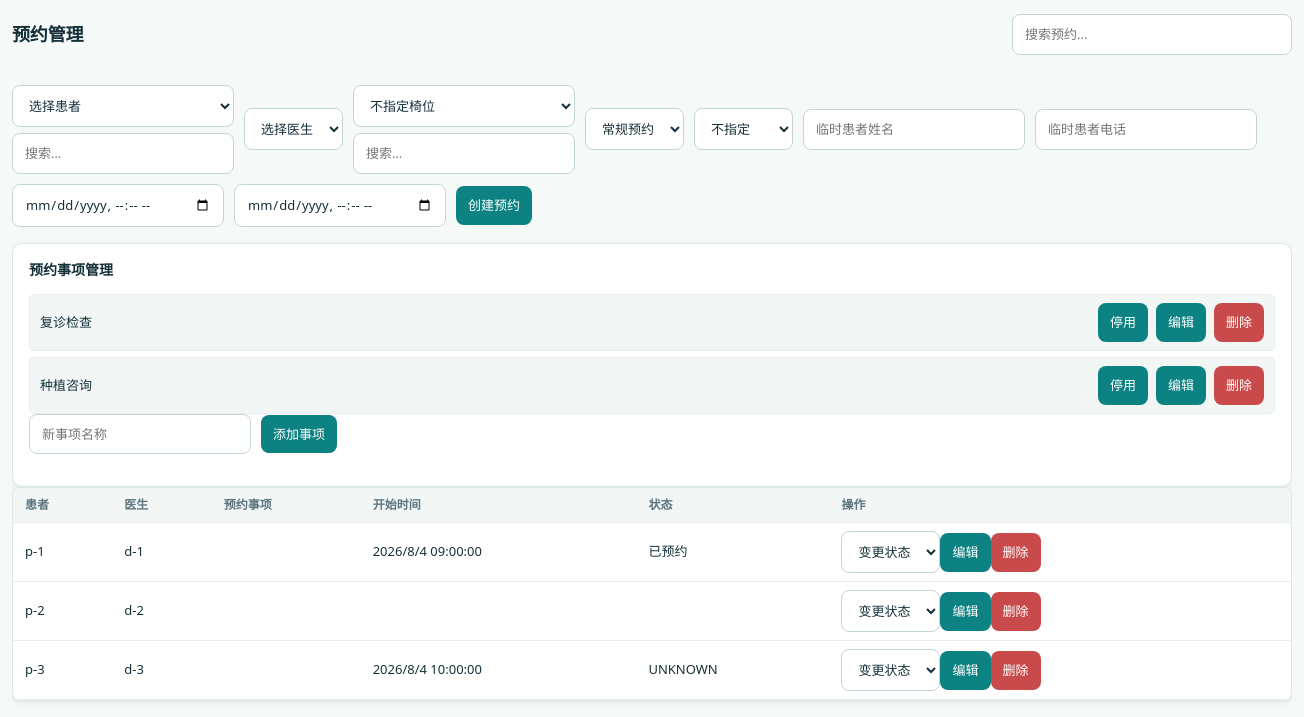
it: AppointmentsPage › renders appointments and creates one with selectors
Expected: the heading "预约管理" is shown, top-left (12, 21), bottom-right (83, 48)
Select "患者甲" in the dropdown named "患者" at (123, 106), box top-left (12, 85), bottom-right (234, 127)
Select "张医生" in the dropdown named "医生" at (294, 129), box top-left (244, 108), bottom-right (343, 150)
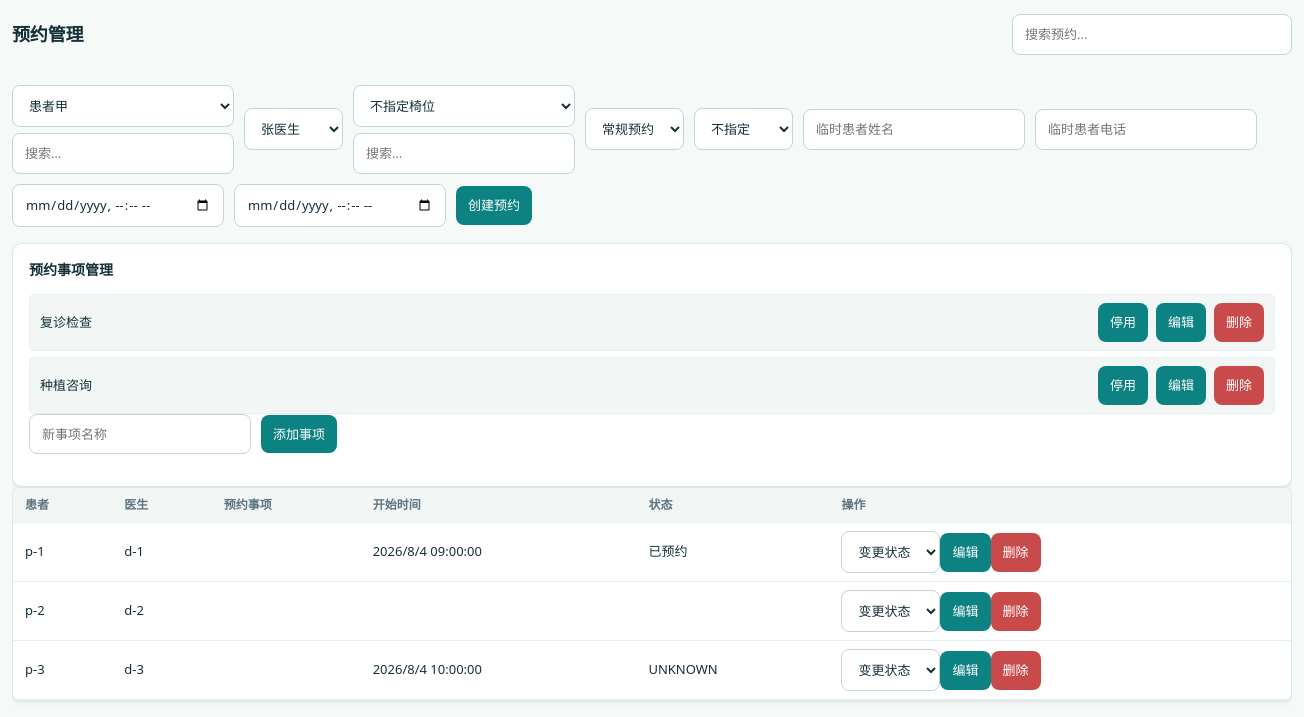
Select "椅位 1" in the dropdown named "椅位" at (464, 106), box top-left (353, 85), bottom-right (575, 127)
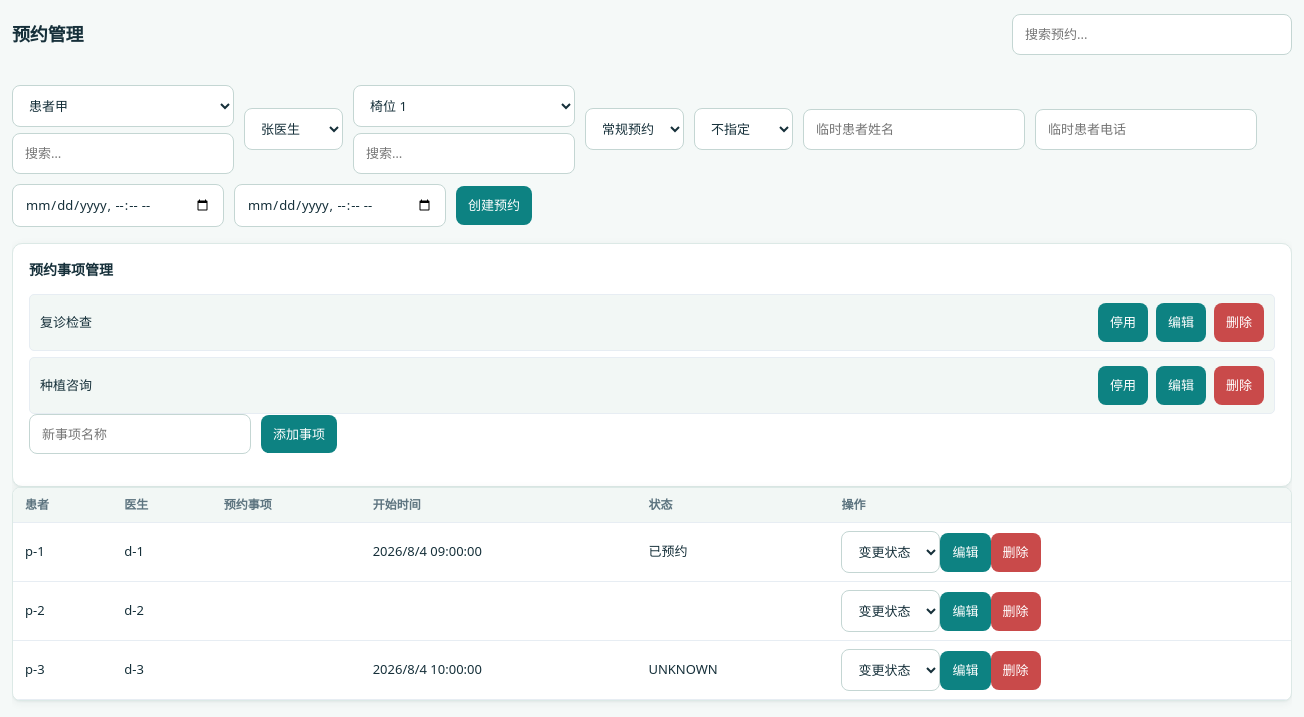
Select "急诊" in the dropdown named "预约类型" at (634, 129), box top-left (585, 108), bottom-right (684, 150)
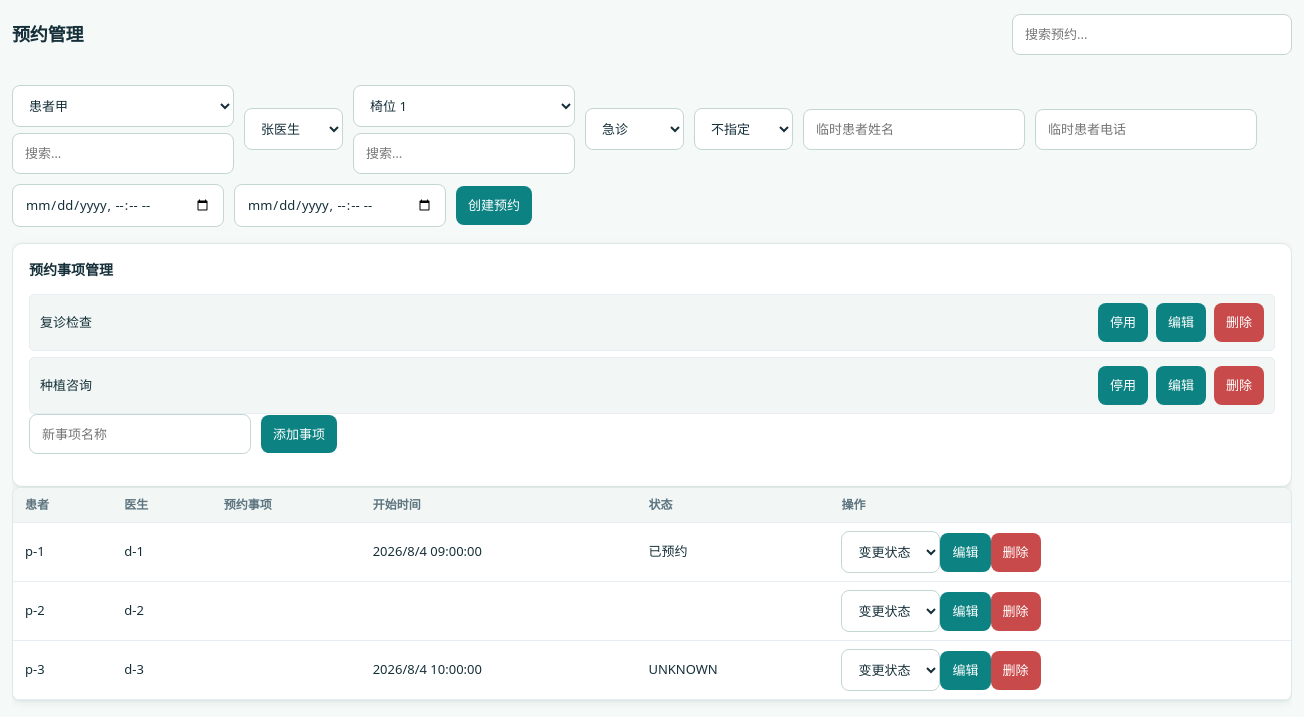
Type "2026-08-05T09:00" into the field named "开始时间" at (118, 205), box top-left (12, 184), bottom-right (224, 226)
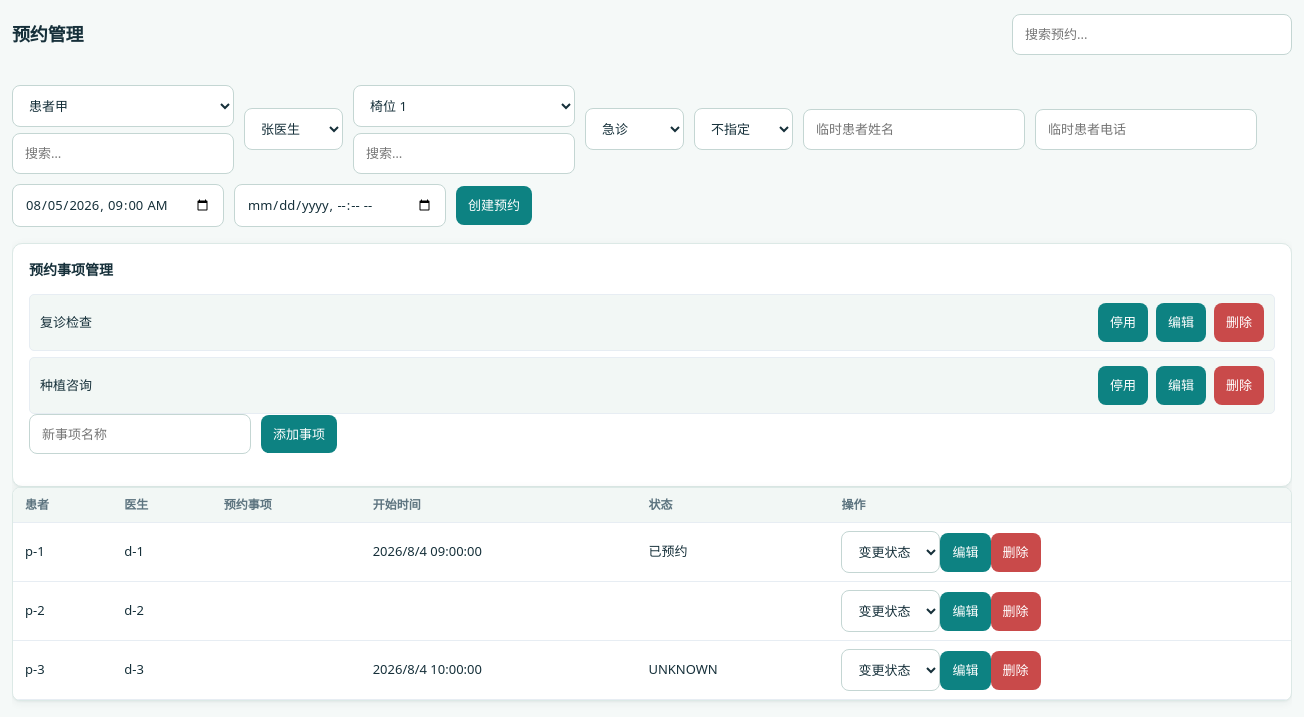
Type "2026-08-05T10:00" into the field named "结束时间" at (340, 205), box top-left (234, 184), bottom-right (446, 226)
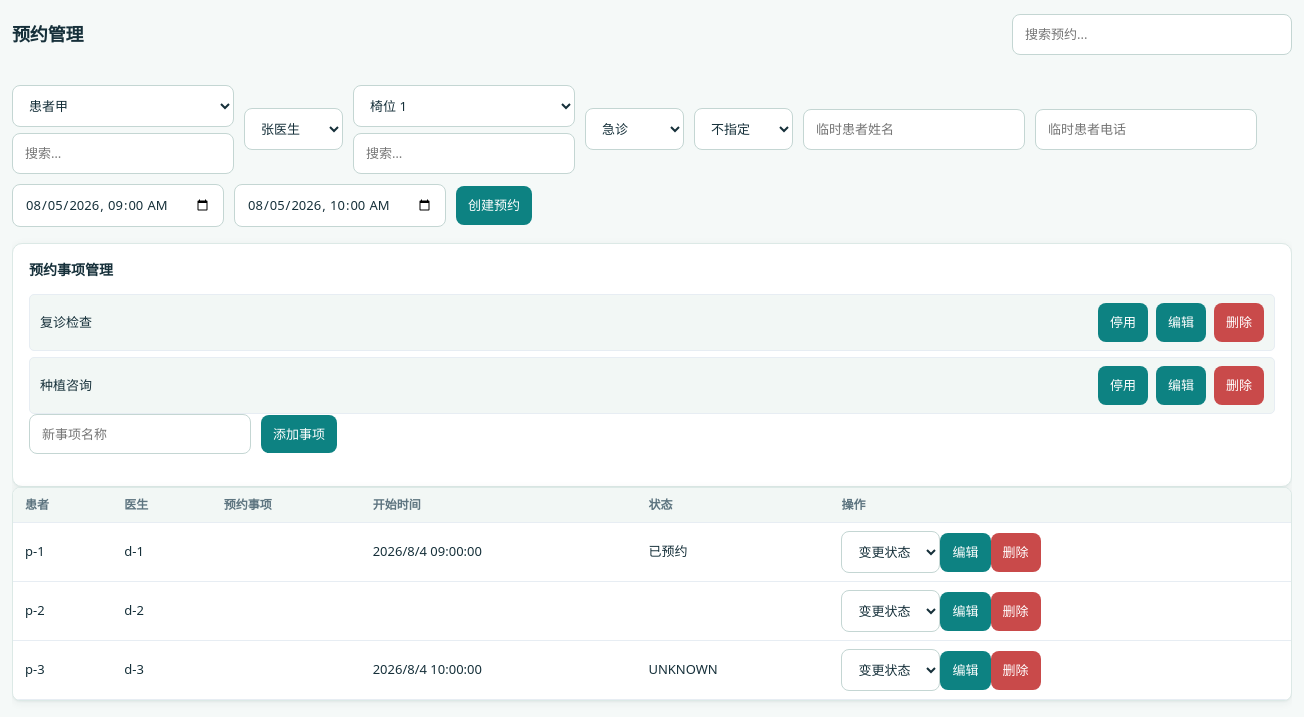
Click the button "创建预约" at (494, 205), box top-left (456, 186), bottom-right (532, 224)
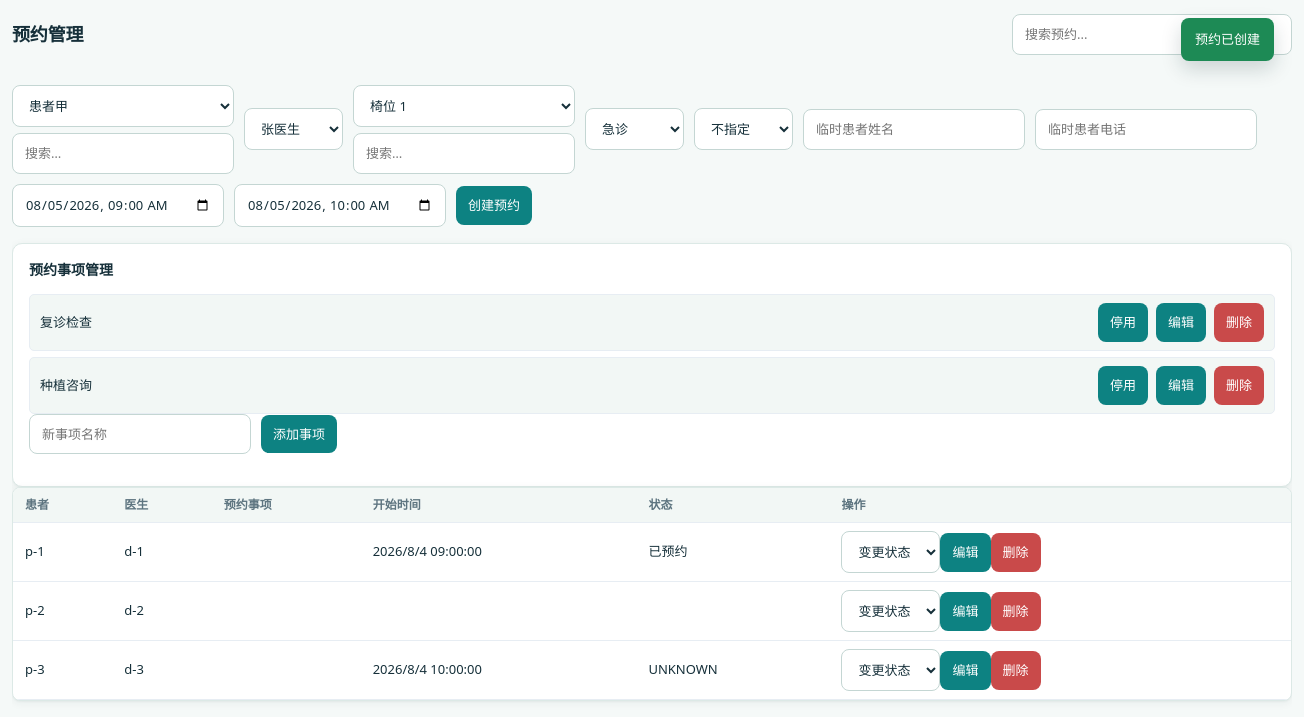
Now the text "预约已创建" is shown, box top-left (1181, 18), bottom-right (1274, 61)
